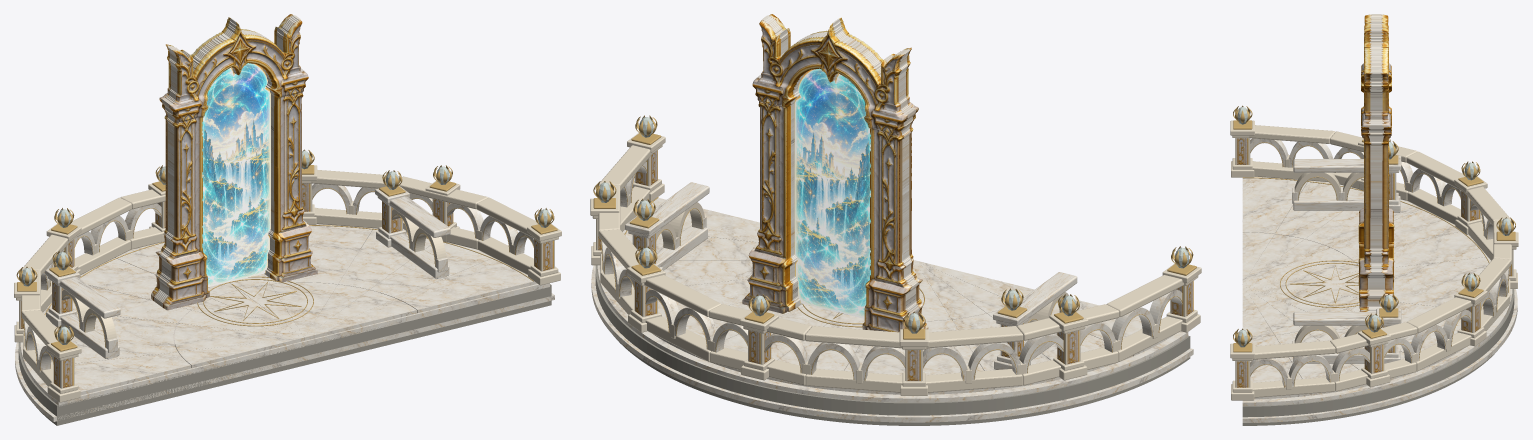
The model's file is river-architecture-v9.glb.
3 views of the same model, side by side, from view 1: azimuth 30°, elevation 25°; view 2: azimuth 150°, elevation 25°; view 3: azimuth 270°, elevation 25° (orthographic). The views are drawn at different scales.
Parts seen in each view (by area): view 1: PortalTerrace Reference terrace, Portal, PortalTerrace Honed warm limestone, PortalAperture, PortalTerrace Warm recessed stone v9, PortalTerrace Champagne gold v9, PortalTerrace Pier carved leaf panels, BridgeRightRail Honed warm limestone, BridgeLeftRail Honed warm limestone, BridgeRightRail Reference terrace, BridgeLeftRail Reference terrace, PortalTerrace Lotus stone crystal (+1 smaller); view 2: PortalTerrace Reference terrace, PortalTerrace Honed warm limestone, Portal, PortalAperture, PortalTerrace Warm recessed stone v9, PortalTerrace Champagne gold v9, PortalTerrace Pier carved leaf panels, BridgeRightRail Honed warm limestone, PortalTerrace Lotus stone crystal, BridgeRightRail Reference terrace, BridgeLeftRail Reference terrace; view 3: PortalTerrace Reference terrace, PortalTerrace Honed warm limestone, Portal, PortalTerrace Warm recessed stone v9, PortalTerrace Champagne gold v9, BridgeLeftRail Honed warm limestone, PortalTerrace Pier carved leaf panels, BridgeLeftRail Reference terrace, BridgeRightRail Reference terrace, BridgeRightRail Honed warm limestone, PortalTerrace Lotus stone crystal, BridgeRightPier Champagne gold v9 (+2 smaller).
Boxes of the visible parts, <box> form: PortalTerrace Reference terrace: <box>14,165,561,395</box>; Portal: <box>151,14,317,310</box>; PortalTerrace Honed warm limestone: <box>14,181,560,421</box>; PortalAperture: <box>202,63,270,287</box>; PortalTerrace Warm recessed stone v9: <box>18,284,551,425</box>; PortalTerrace Champagne gold v9: <box>16,149,557,370</box>; PortalTerrace Pier carved leaf panels: <box>21,183,553,387</box>; BridgeRightRail Honed warm limestone: <box>390,209,449,278</box>; BridgeLeftRail Honed warm limestone: <box>60,289,119,358</box>; BridgeRightRail Reference terrace: <box>389,196,450,272</box>; BridgeLeftRail Reference terrace: <box>59,276,120,352</box>; PortalTerrace Lotus stone crystal: <box>21,150,550,344</box>; PortalTerrace Reference terrace: <box>590,133,1201,394</box>; PortalTerrace Honed warm limestone: <box>591,145,1200,422</box>; Portal: <box>742,14,928,332</box>; PortalAperture: <box>794,68,870,318</box>; PortalTerrace Warm recessed stone v9: <box>595,265,1190,425</box>; PortalTerrace Champagne gold v9: <box>593,115,1196,380</box>; PortalTerrace Pier carved leaf panels: <box>598,150,1193,380</box>; BridgeRightRail Honed warm limestone: <box>656,202,707,270</box>; PortalTerrace Lotus stone crystal: <box>599,117,1189,333</box>; BridgeRightRail Reference terrace: <box>651,182,709,248</box>; BridgeLeftRail Reference terrace: <box>1019,272,1077,318</box>; PortalTerrace Reference terrace: <box>1230,120,1518,399</box>; PortalTerrace Honed warm limestone: <box>1231,135,1517,422</box>; Portal: <box>1358,14,1394,311</box>; PortalTerrace Warm recessed stone v9: <box>1242,289,1514,425</box>; PortalTerrace Champagne gold v9: <box>1233,105,1515,387</box>; BridgeLeftRail Honed warm limestone: <box>1293,172,1363,210</box>; PortalTerrace Pier carved leaf panels: <box>1237,138,1511,387</box>; BridgeLeftRail Reference terrace: <box>1292,159,1363,203</box>; BridgeRightRail Reference terrace: <box>1292,312,1376,343</box>; BridgeRightRail Honed warm limestone: <box>1293,325,1381,363</box>; PortalTerrace Lotus stone crystal: <box>1237,107,1511,347</box>; BridgeRightPier Champagne gold v9: <box>1379,294,1398,317</box>.
Bounding box in the file's own units: 12.5 × 6.98 × 6.53.
Materials: 11 (8 with a texture image).
